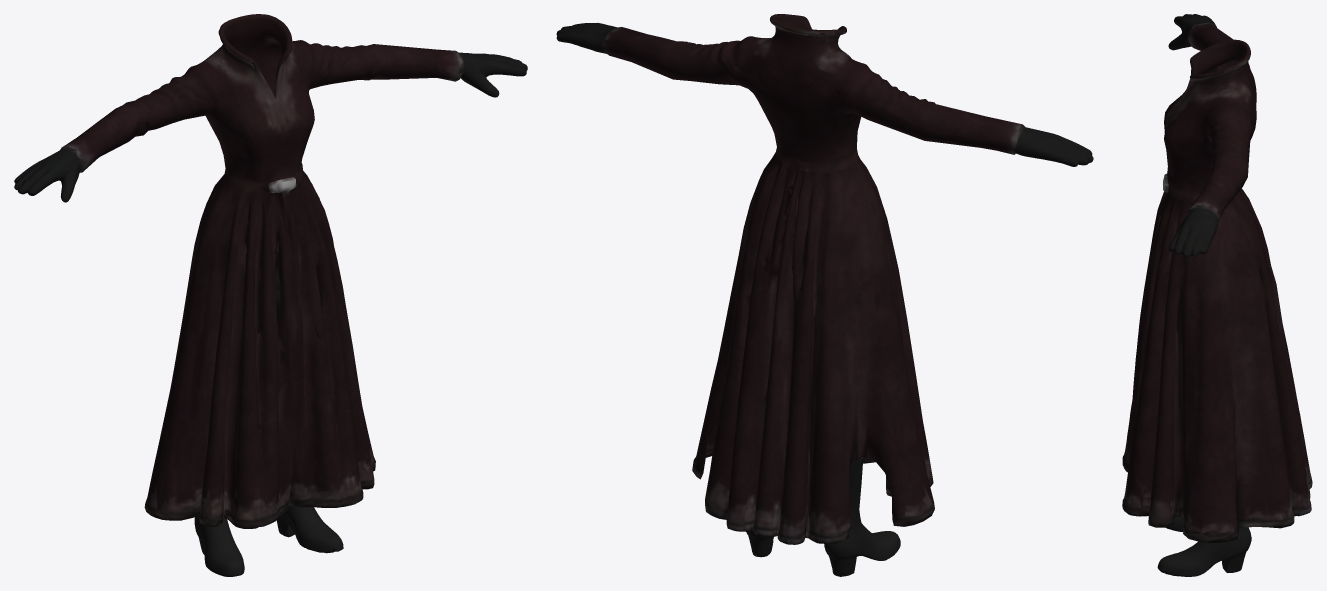
The model's file is maren-gown-30k-v1.glb.
3 views of the same model, side by side, from view 1: azimuth 30°, elevation 25°; view 2: azimuth 150°, elevation 25°; view 3: azimuth 270°, elevation 25° (orthographic). The views are drawn at different scales.
Parts seen in each view (by area): view 1: maren-gown-30000-v1; view 2: maren-gown-30000-v1; view 3: maren-gown-30000-v1.
Part boxes in pixels (x1,y1,x2,y2): maren-gown-30000-v1: (14, 14, 527, 576); maren-gown-30000-v1: (556, 14, 1093, 576); maren-gown-30000-v1: (1122, 14, 1312, 576).
Size of the model in its own units: 1 by 0.9778 by 0.3362.
Materials: 1 (1 with a texture image).
